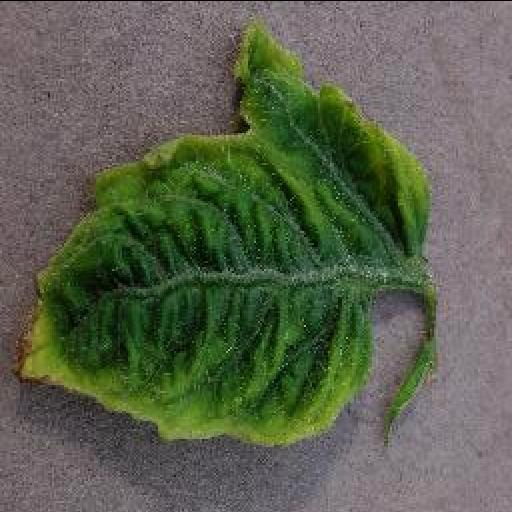disease_tomato: (15, 21, 433, 443)
